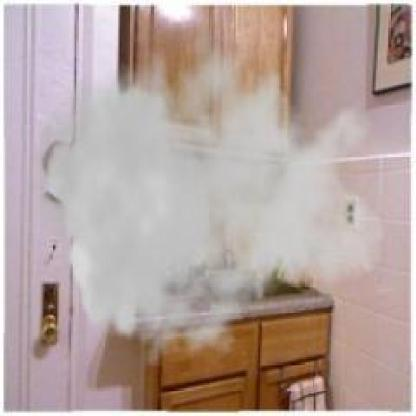Smoke: (33, 8, 386, 373)
